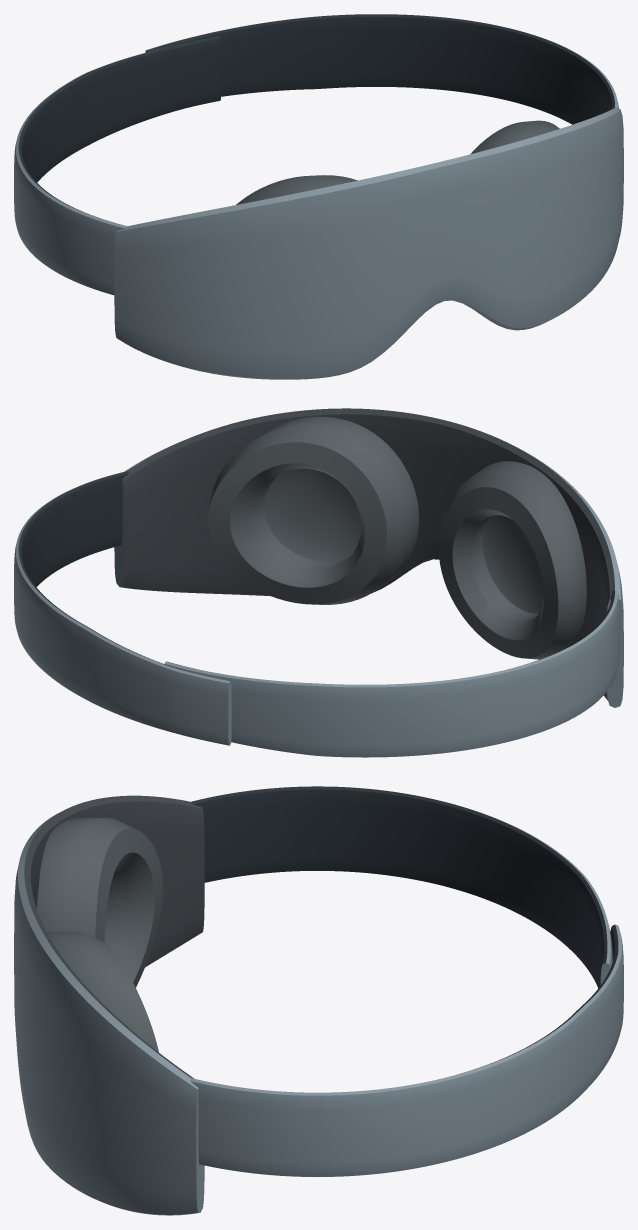
The picture shows the model from 3 angles, top to bottom: view 1: azimuth 30°, elevation 25°; view 2: azimuth 150°, elevation 25°; view 3: azimuth 270°, elevation 25°; orthographic projection. The views are drawn at different scales.
Parts seen in each view (by area): view 1: Padded_closed_two_eye_front_with_nose_relief, Right_continuous_wrap_strap_with_overlap_end, Left_continuous_wrap_strap_with_overlap_end, Left_closed_recessed_contact_cup, Right_closed_recessed_contact_cup; view 2: Padded_closed_two_eye_front_with_nose_relief, Right_closed_recessed_contact_cup, Left_continuous_wrap_strap_with_overlap_end, Right_continuous_wrap_strap_with_overlap_end, Left_closed_recessed_contact_cup; view 3: Padded_closed_two_eye_front_with_nose_relief, Right_continuous_wrap_strap_with_overlap_end, Left_continuous_wrap_strap_with_overlap_end, Left_closed_recessed_contact_cup, Right_closed_recessed_contact_cup.
Boxes of the visible parts, box(x1,y1,x2,y2) form: Padded_closed_two_eye_front_with_nose_relief: box(114, 107, 623, 379); Right_continuous_wrap_strap_with_overlap_end: box(145, 14, 618, 124); Left_continuous_wrap_strap_with_overlap_end: box(14, 36, 221, 295); Left_closed_recessed_contact_cup: box(236, 175, 357, 204); Right_closed_recessed_contact_cup: box(470, 120, 559, 154); Padded_closed_two_eye_front_with_nose_relief: box(114, 408, 623, 707); Right_closed_recessed_contact_cup: box(208, 416, 418, 604); Left_continuous_wrap_strap_with_overlap_end: box(164, 590, 619, 757); Right_continuous_wrap_strap_with_overlap_end: box(14, 471, 231, 745); Left_closed_recessed_contact_cup: box(438, 461, 586, 659); Padded_closed_two_eye_front_with_nose_relief: box(14, 795, 204, 1215); Right_continuous_wrap_strap_with_overlap_end: box(190, 924, 623, 1176); Left_continuous_wrap_strap_with_overlap_end: box(191, 786, 612, 988); Left_closed_recessed_contact_cup: box(37, 818, 162, 987); Right_closed_recessed_contact_cup: box(47, 931, 158, 1052).
Bounding box in the file's own units: 0.2132 × 0.0736 × 0.1768.
